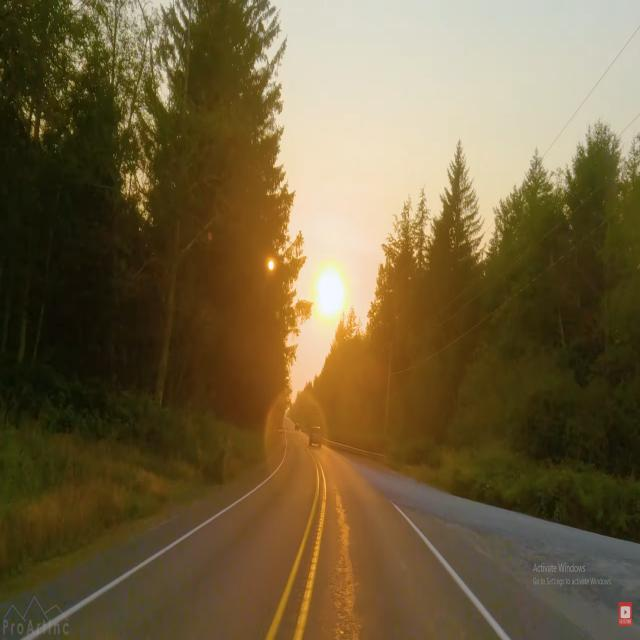sun: (310, 250, 354, 332)
